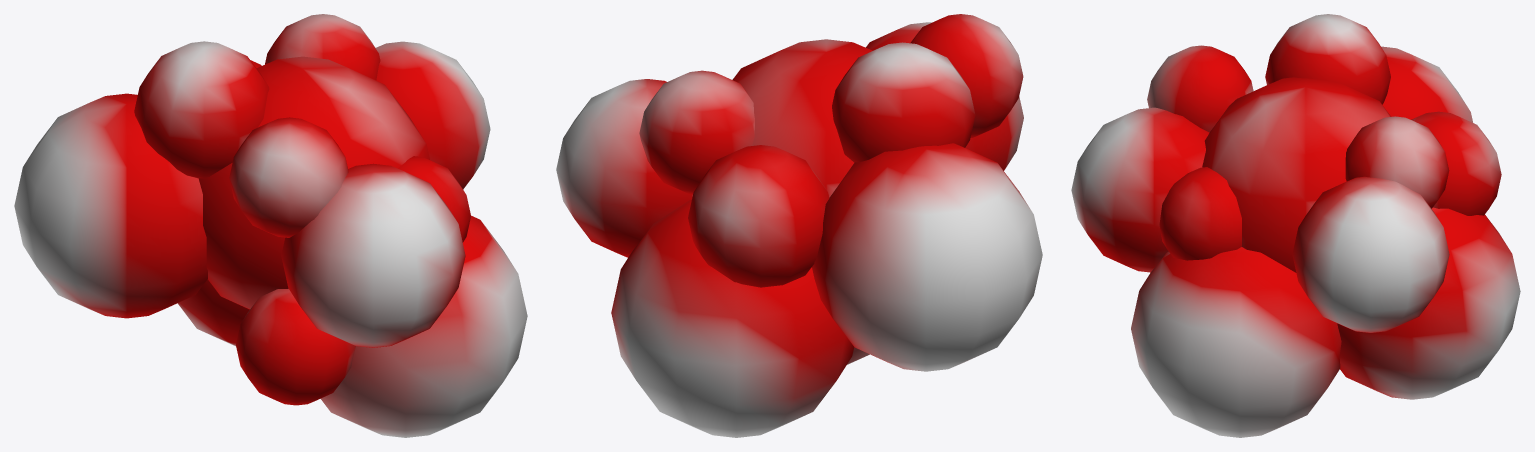
Rendered from SM_Explosion_Prototype.fbx.
3 renders of one model, left to right at view 1: azimuth 30°, elevation 25°; view 2: azimuth 150°, elevation 25°; view 3: azimuth 270°, elevation 25°, orthographic. The views are drawn at different scales.
Parts seen in each view (by area): view 1: Sphere; view 2: Sphere; view 3: Sphere.
Part boxes in pixels (x1=…): Sphere: x1=14, y1=14, x2=527, y2=437; Sphere: x1=556, y1=14, x2=1042, y2=437; Sphere: x1=1071, y1=14, x2=1520, y2=437.
Bounding box in the file's own units: 384 × 313 × 373.
